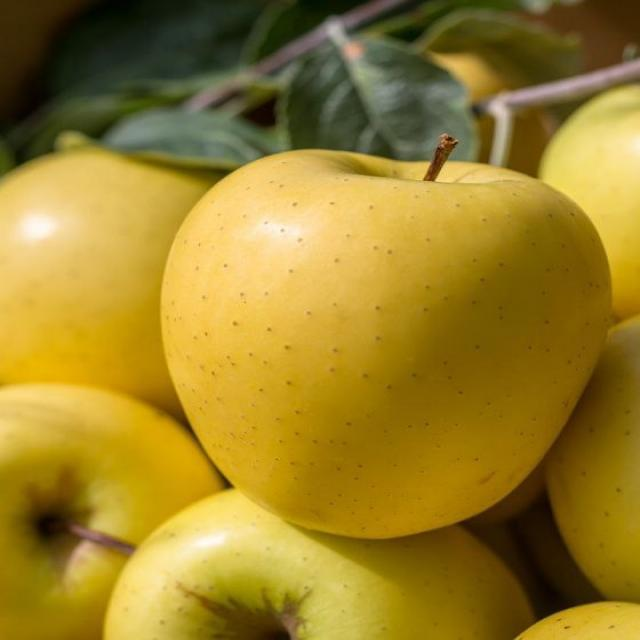Fresh Apple: (165, 155, 640, 553)
